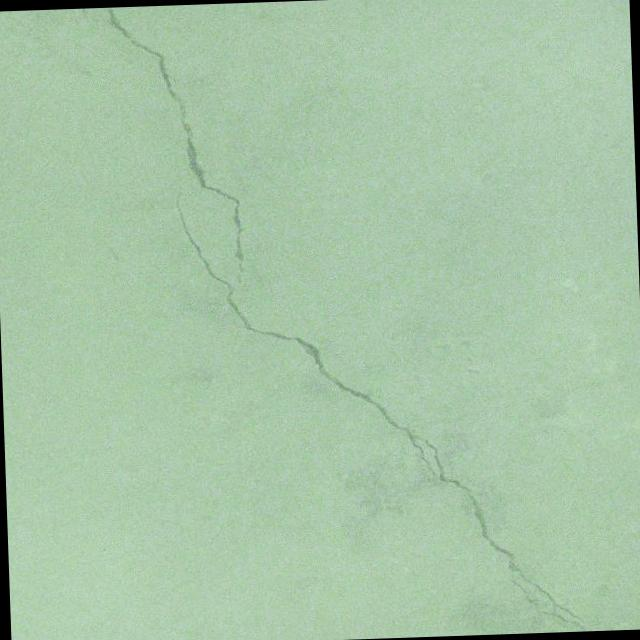crack: (174, 178, 586, 640), (103, 4, 246, 288), (80, 8, 98, 22)
